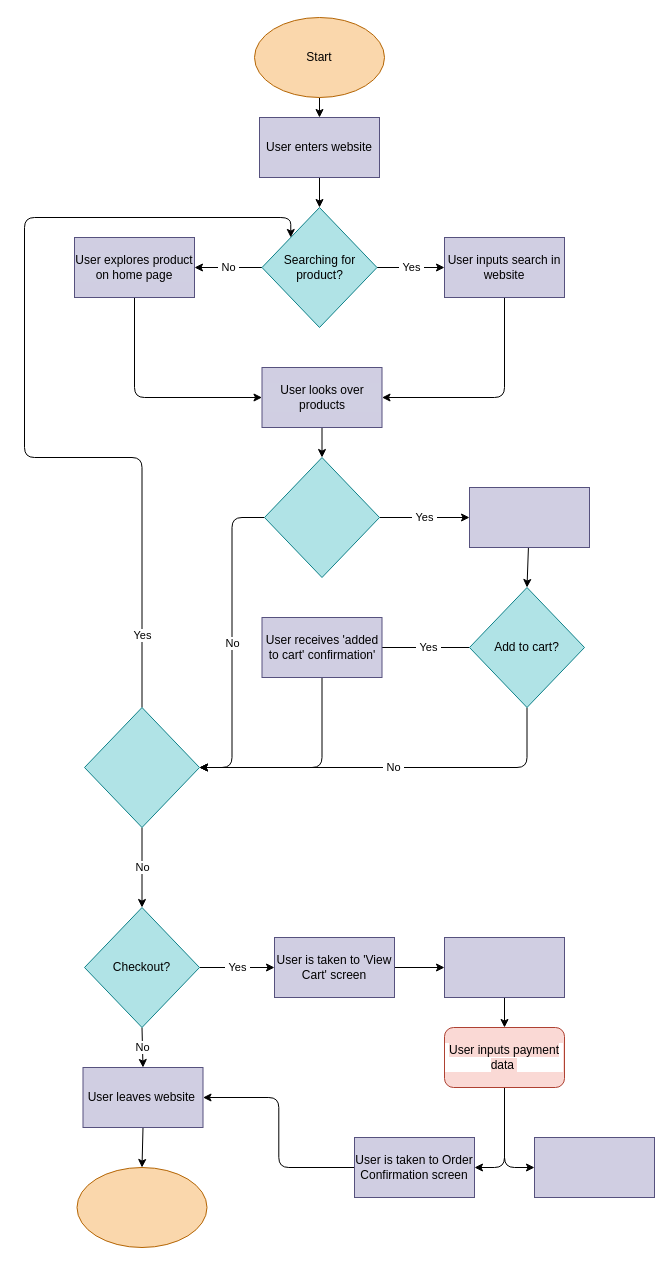
This 672x1265 diagram has some shape labels left out. Each missing label, with the centre of its shape:
"Continue shopping?" goes at pixel 142 767.
"End" goes at pixel 141 1207.
"Product webpage opens" goes at pixel 529 517.
"User goes to 'View Payment' screen" goes at pixel 504 967.
"User receives email" goes at pixel 594 1167.
"View specific product?" goes at pixel 322 517.
